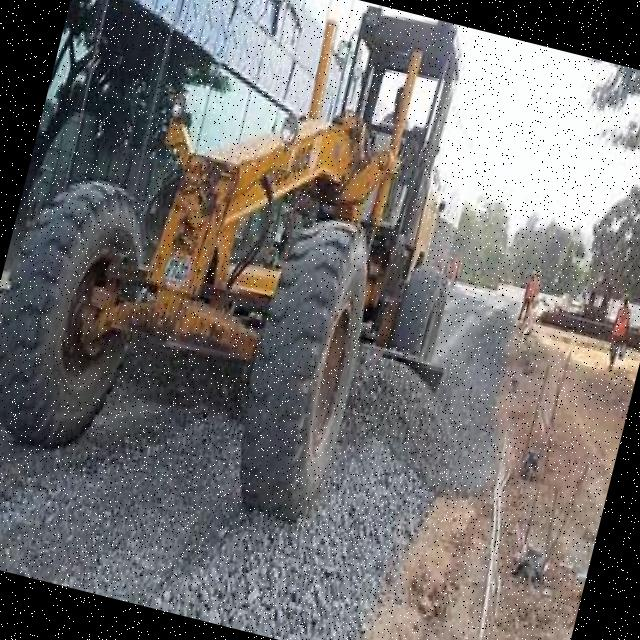Grader: (0, 0, 531, 570)
